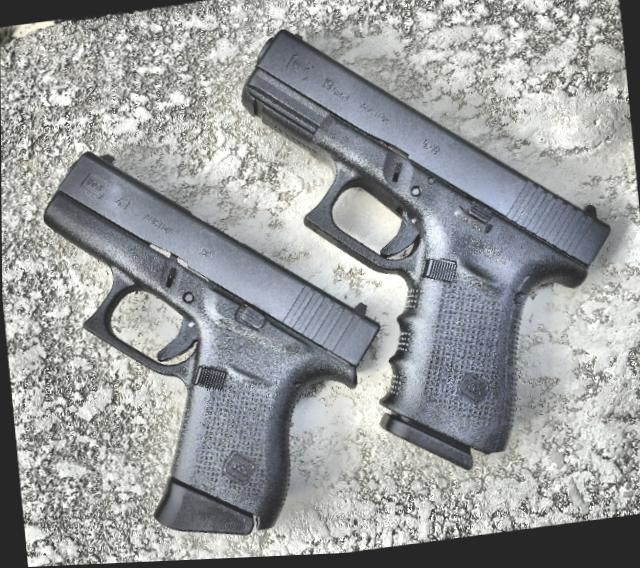pistol: (229, 0, 632, 502), (32, 115, 394, 559)
